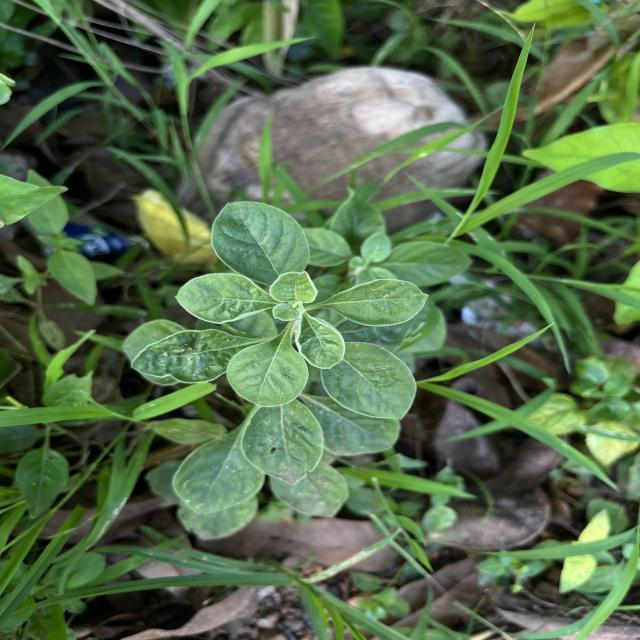Aerva lanata: (208, 198, 312, 290), (317, 339, 418, 421), (224, 330, 312, 410), (318, 276, 430, 329), (172, 271, 278, 326), (293, 314, 348, 372), (267, 270, 321, 306)
